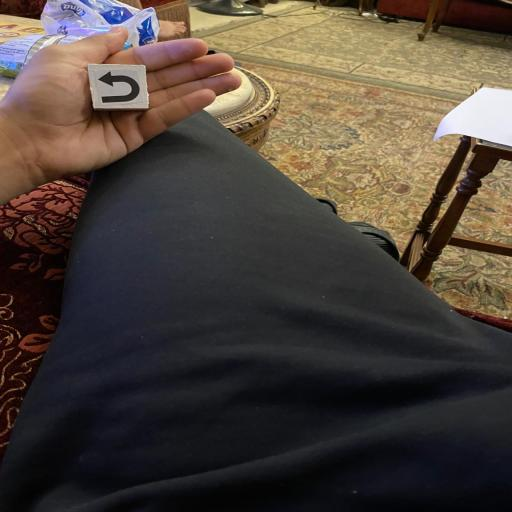Undo: (85, 62, 151, 112)
